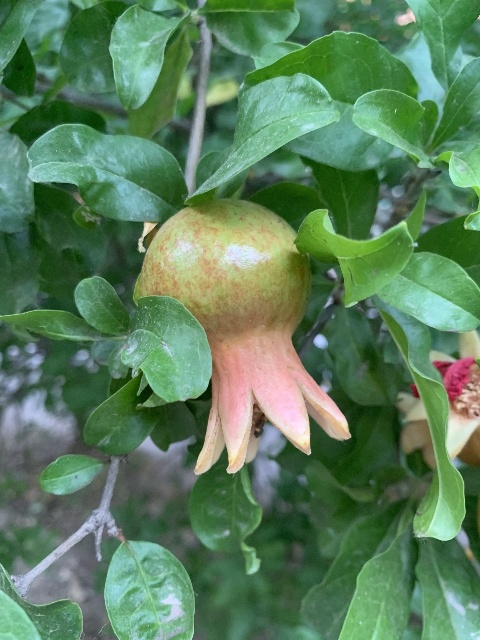early-fruit: (137, 197, 349, 474)
